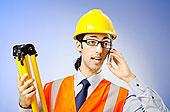helmet: (73, 9, 120, 42)
